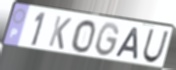1: (31, 12, 47, 48)
A: (113, 26, 140, 61)
G: (94, 21, 121, 58)
K: (47, 14, 74, 51)
O: (70, 19, 97, 54)
U: (141, 28, 170, 64)
